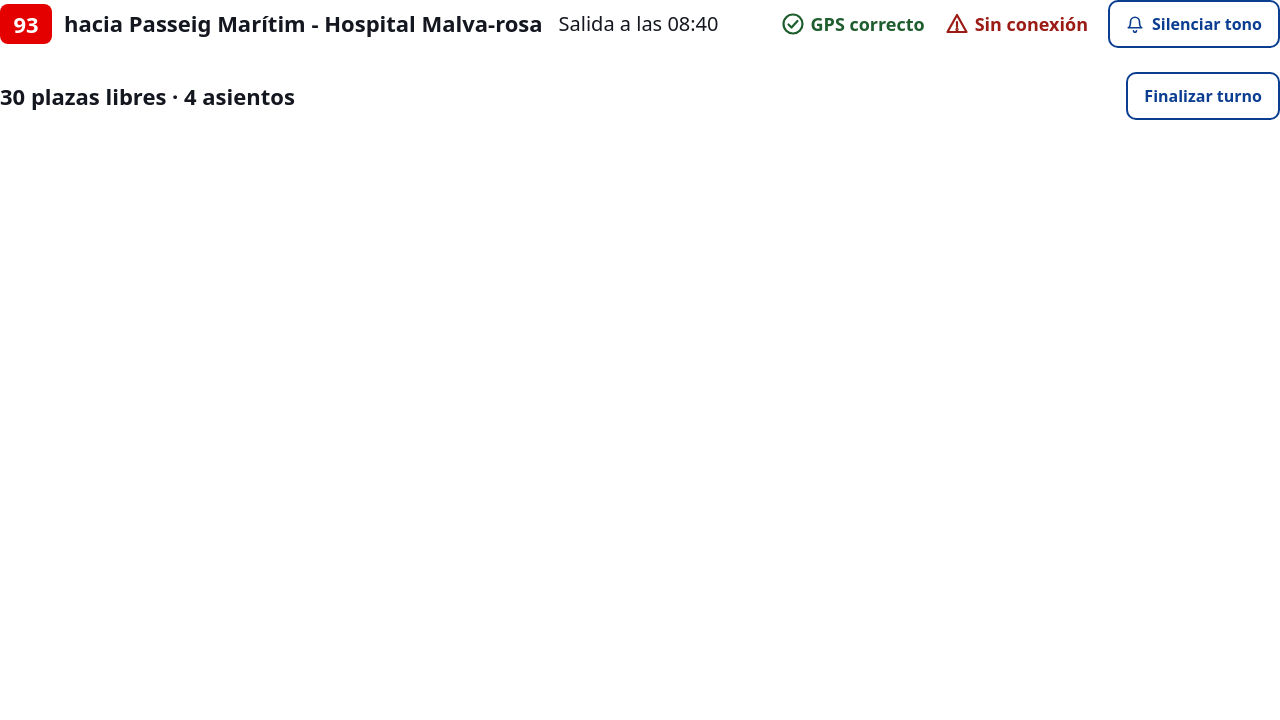
Test: DemandView › [driver_ui.AC-10] after confirming it calls DELETE, forgets the token and ends with ENDED
The width and height of the screenshot is (1280, 720).
Later steps or results of the test are not shown.
Click the button "Finalizar turno" at (1203,96), box [1126,72,1279,120]
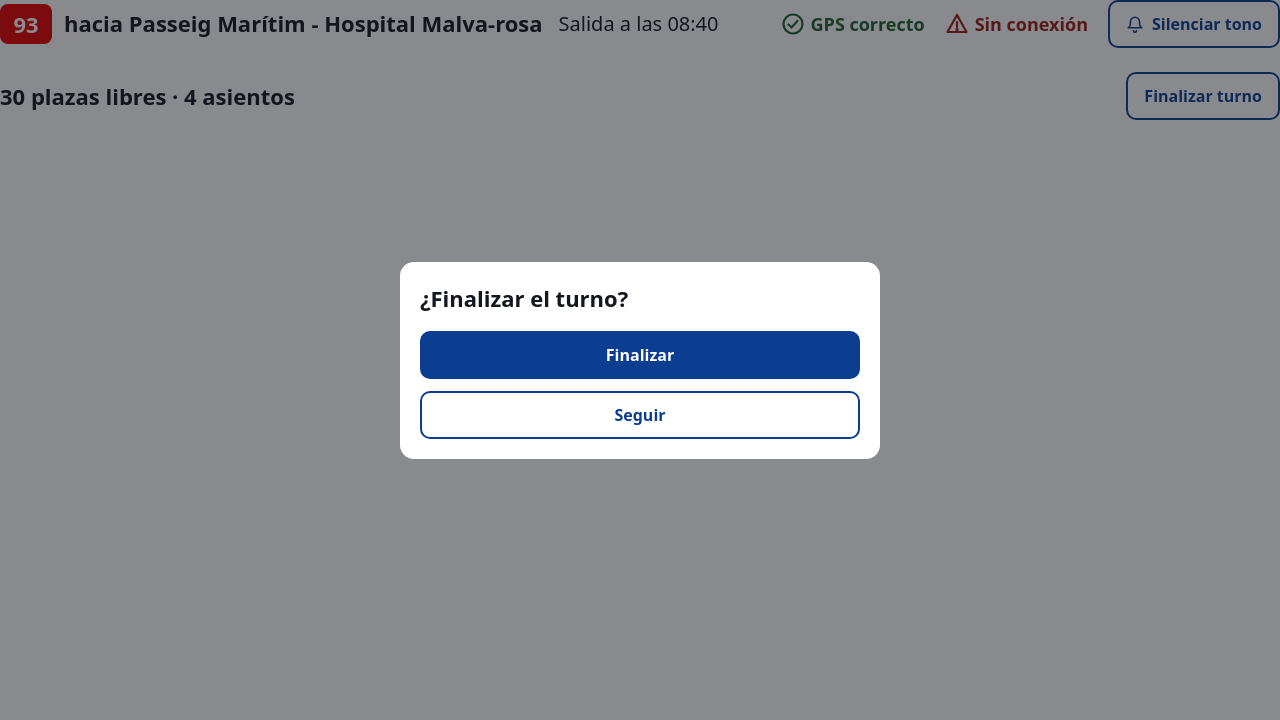
Check: the dialog "¿Finalizar el turno?" is shown, box [400,262,880,458]
